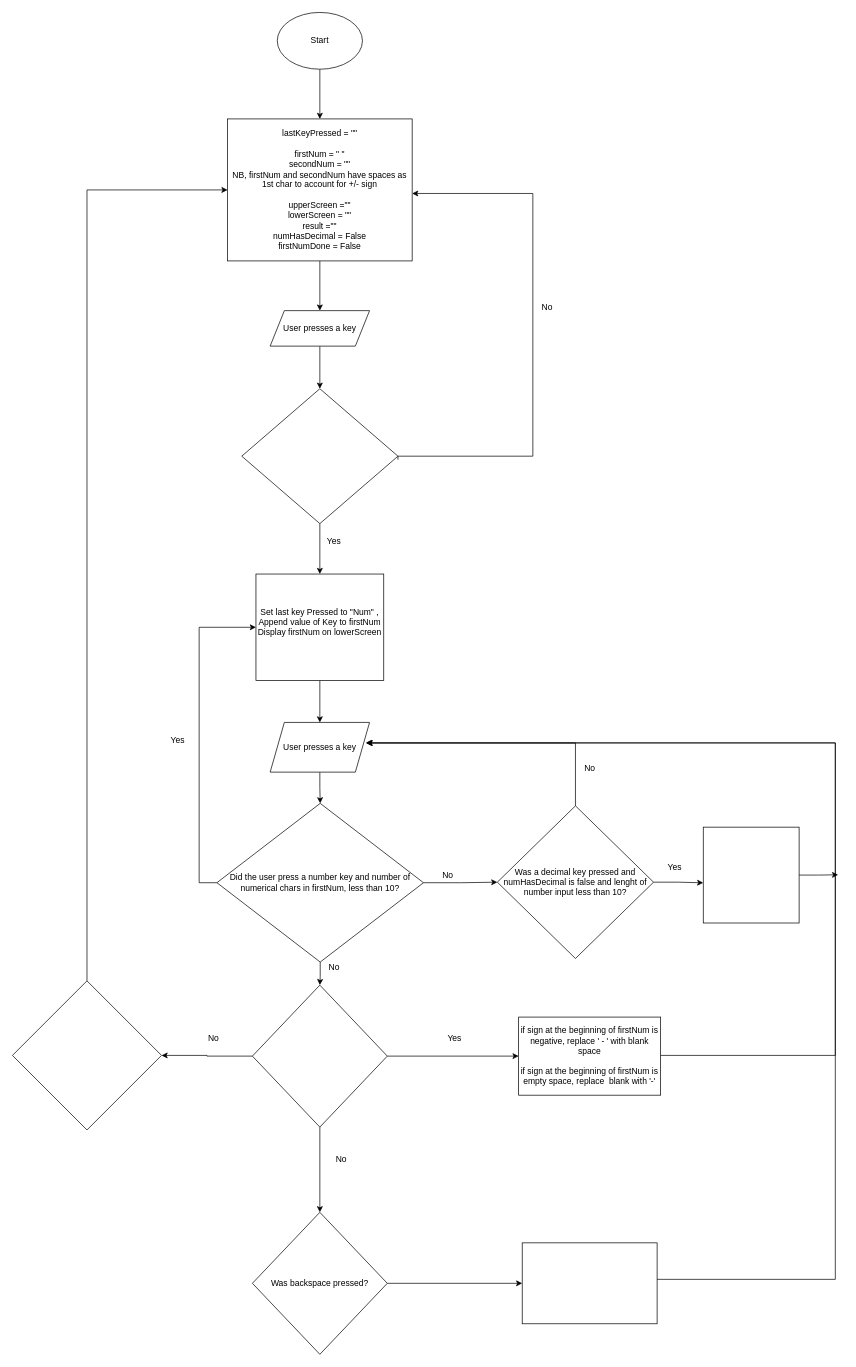
Image size: 856x1367. Some labels were removed from this diagram. The shapes that lost their labels are listed below. From the top down, each one's centre as x and y in pixels, then its label:
At point 319,456: "Did the user press a number key and lenght of number input less than 10?".
At point 751,874: "Append Period to the end of firstNum, set numHasDecimal to TRUE".
At point 87,1055: "Was Memory Cleared Pressed?".
At point 319,1055: "Was changeSign key pressed?".
At point 589,1283: "Remove last number entered in firstNum and display on lowerScreen".
